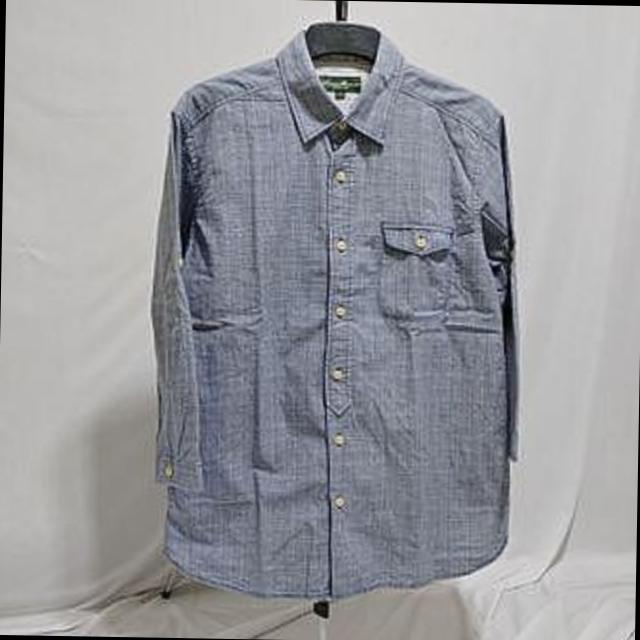SHIRT: (125, 11, 542, 608)
